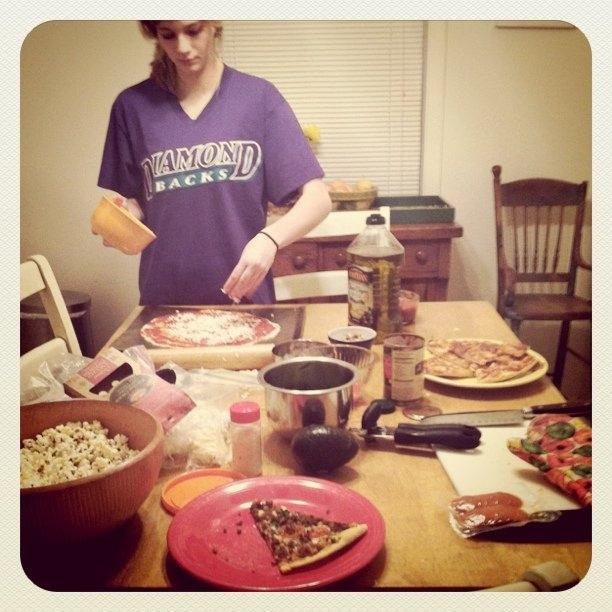avocado: (291, 424, 360, 473)
